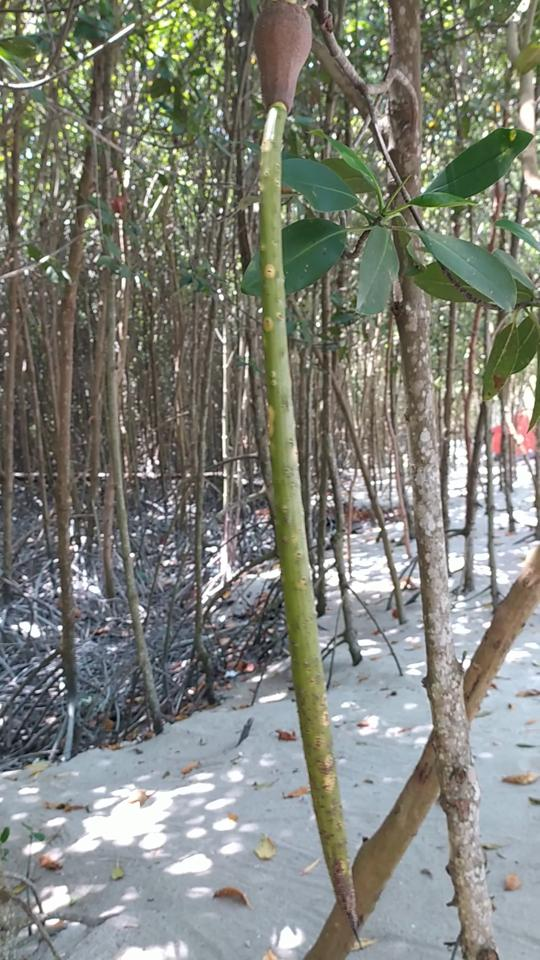setengah matang: (239, 1, 377, 947)
